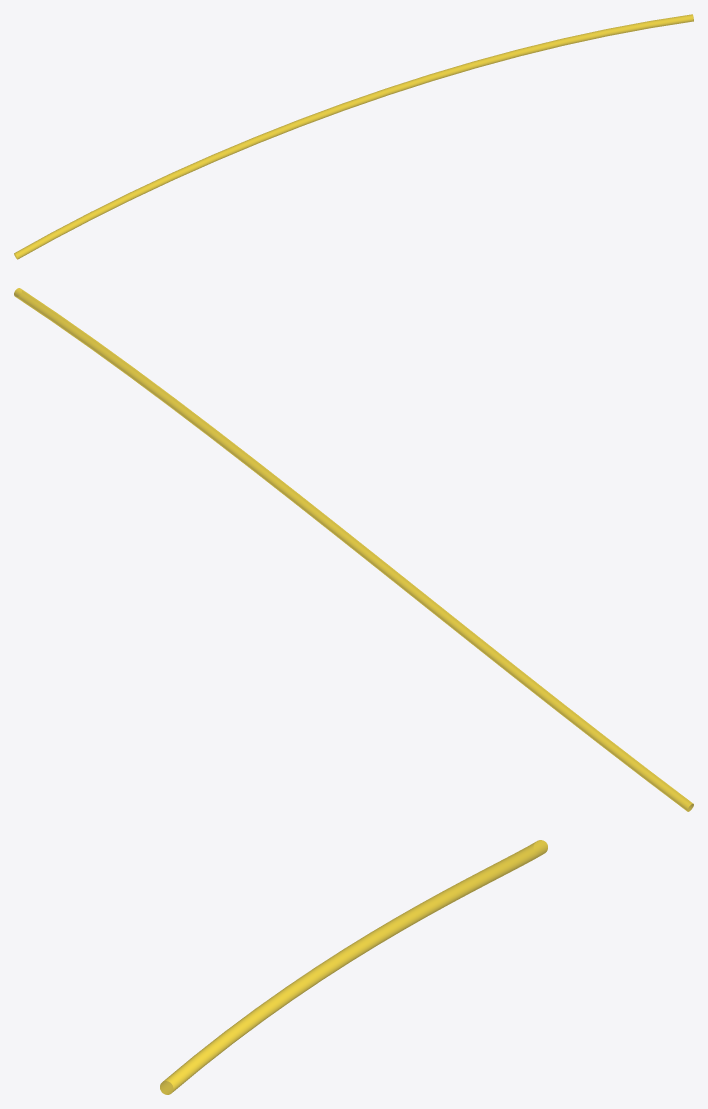
Rendered from Event_15818458_track_73.fbx.
3 views of the same model, one above another, from view 1: azimuth 30°, elevation 25°; view 2: azimuth 150°, elevation 25°; view 3: azimuth 270°, elevation 25° (orthographic). The views are drawn at different scales.
Visible parts, largest first — view 1: Model; view 2: Model; view 3: Model.
Boxes of the visible parts, x1,y1,x2,y2 form: Model: (14,14,693,259); Model: (14,288,693,811); Model: (160,840,547,1094).
Bounding box in the file's own units: 3.69 × 1.03 × 1.06.
